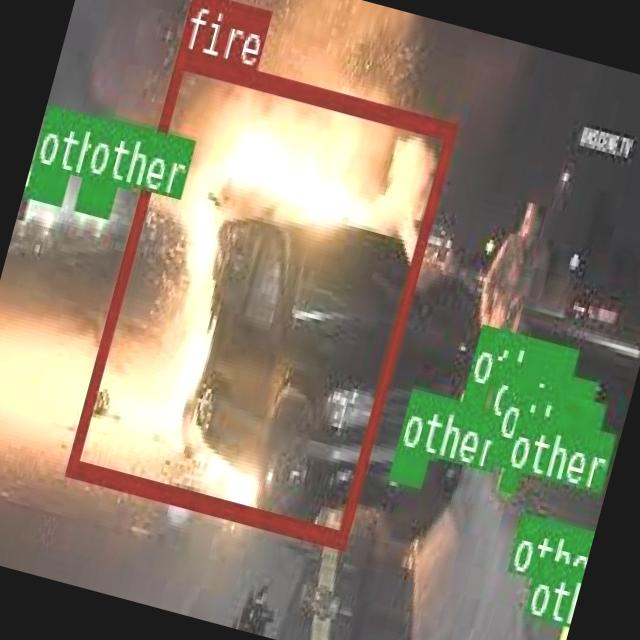fire: (65, 47, 458, 544)
